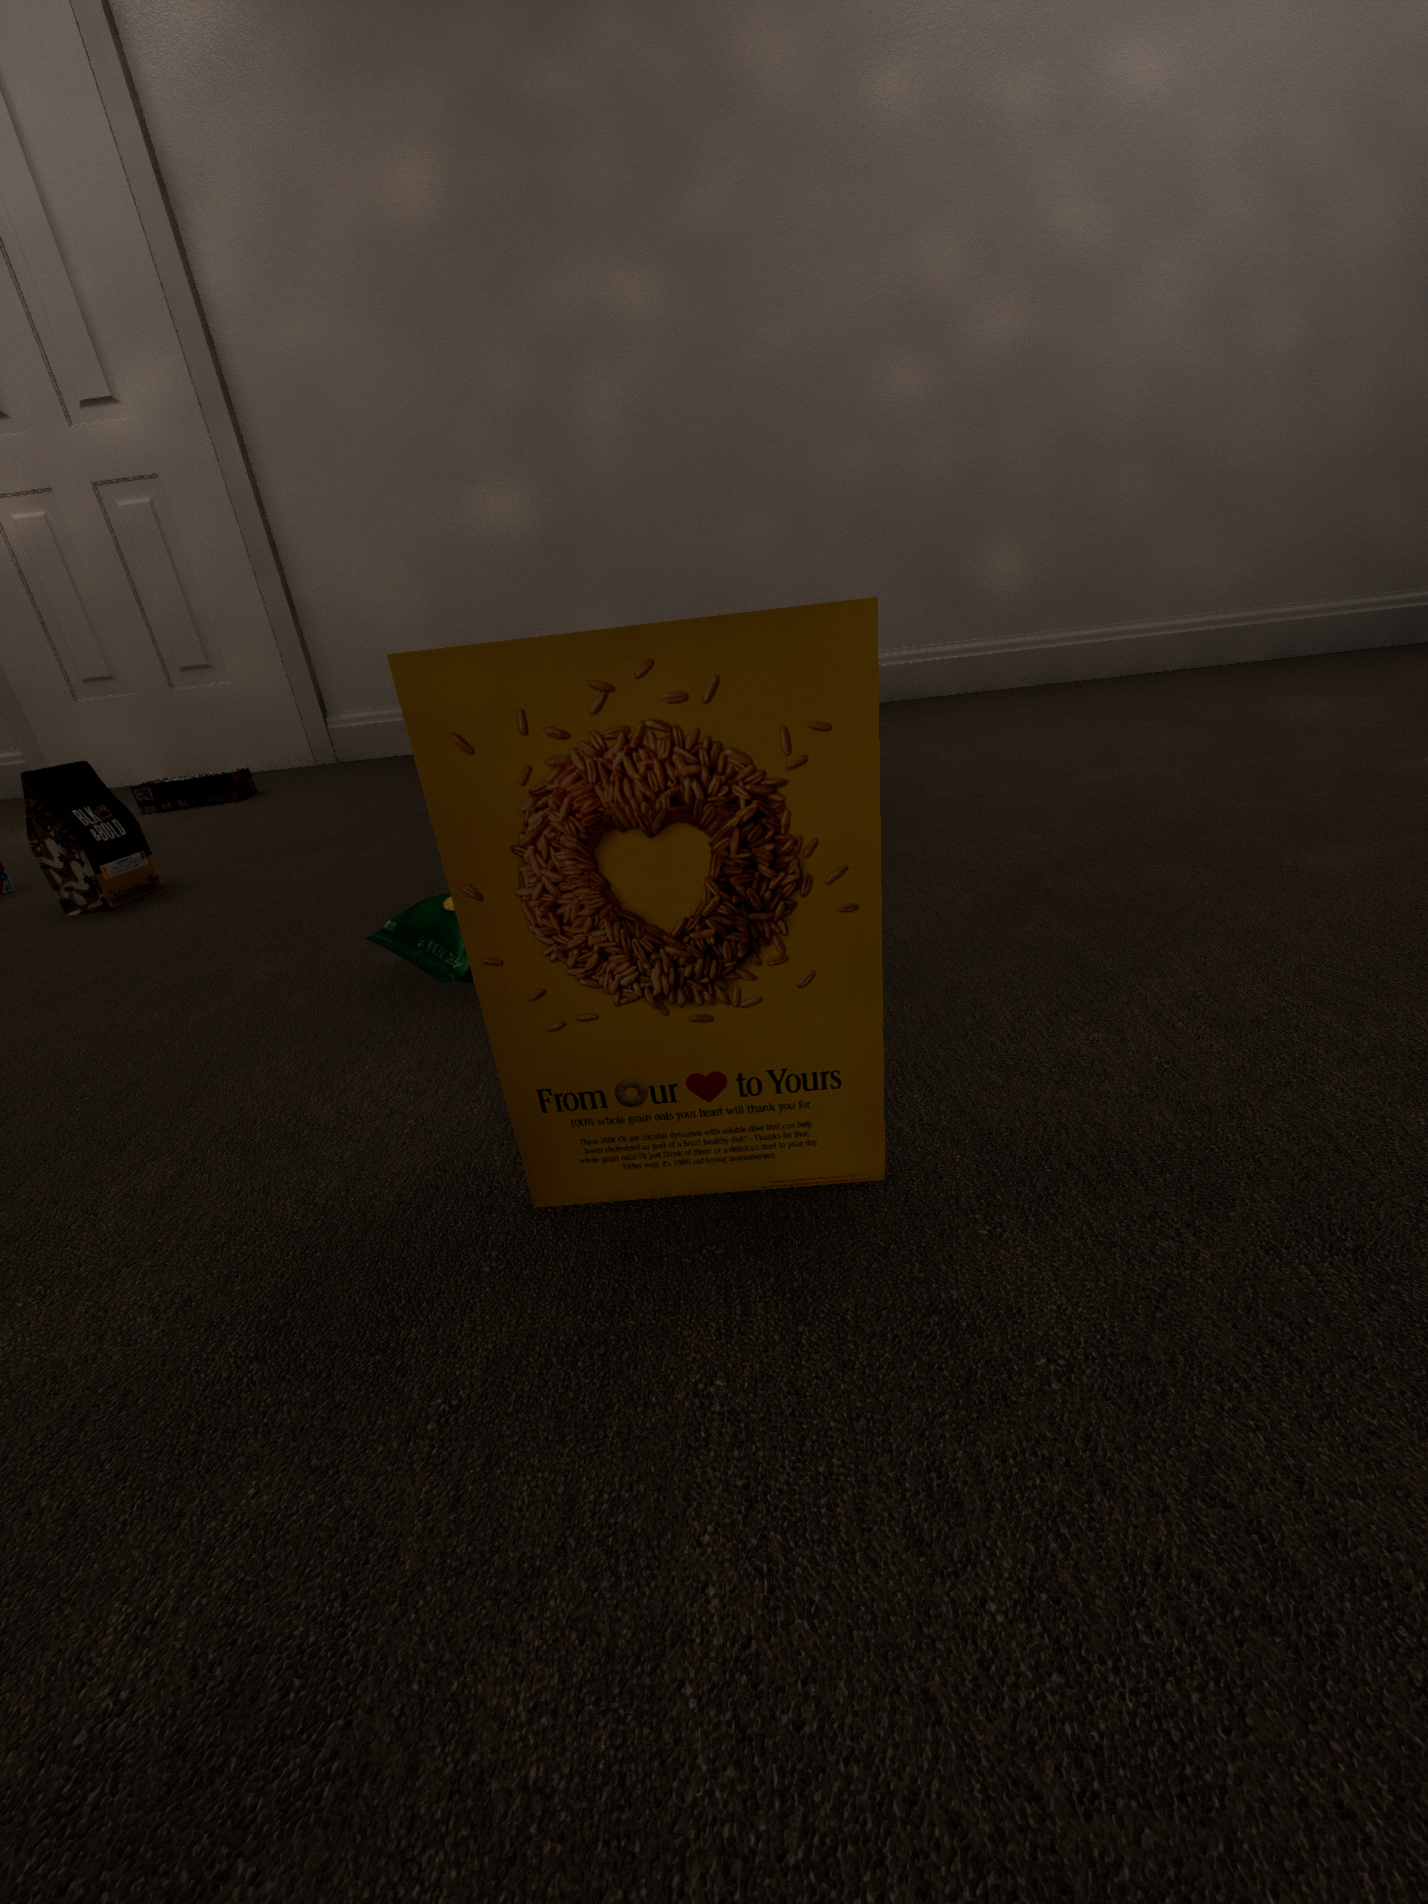cheerios: (387, 597, 885, 1208)
